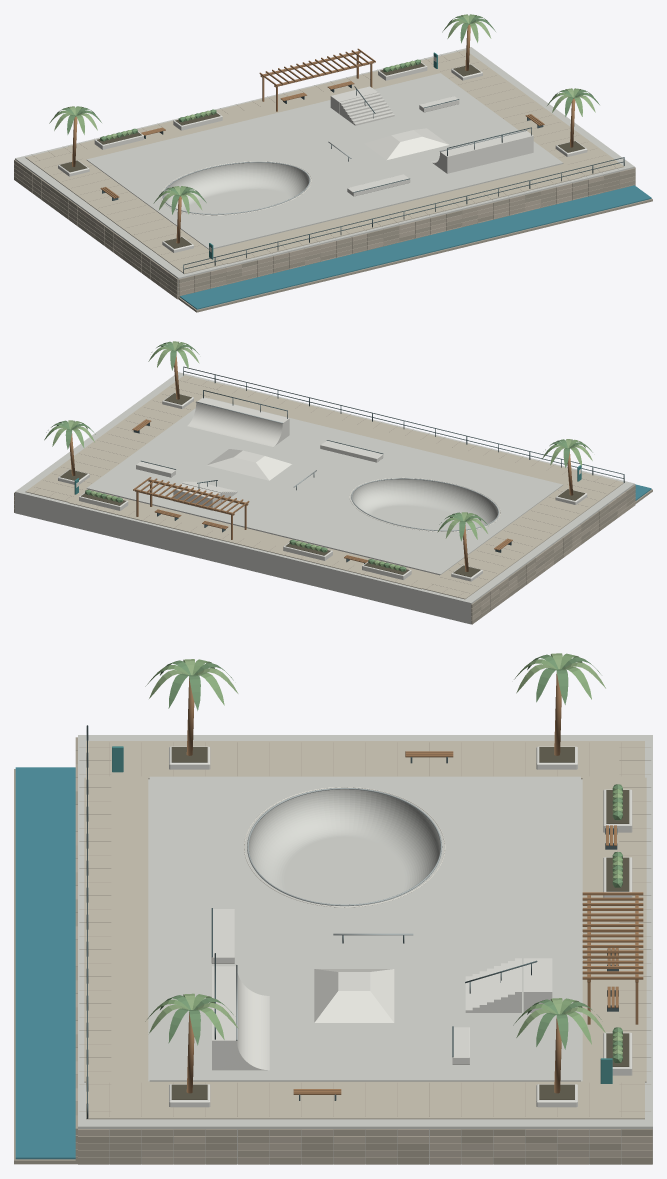
The model's file is waterfront-skatepark.glb.
3 views of the same model, one above another, from view 1: azimuth 30°, elevation 25°; view 2: azimuth 150°, elevation 25°; view 3: azimuth 270°, elevation 25° (orthographic). The views are drawn at different scales.
Visible parts, largest first — view 1: Skatepark Warm architectural concrete, Skatepark Sandstone paving, Skatepark Canal water, Skatepark Precast concrete edges, Skatepark Retaining stone 1, Skatepark Retaining stone 2, Skatepark Retaining stone 0, Skatepark Oiled timber, Skatepark Retaining stone 4, Skatepark Retaining stone 3, Skatepark Dark graphite steel, Skatepark Palm foliage 0 (+4 smaller); view 2: Skatepark Warm architectural concrete, Skatepark Sandstone paving, Skatepark Precast concrete edges, Skatepark Oiled timber, Skatepark Dark graphite steel, Skatepark Retaining stone 2, Skatepark Palm foliage 0, Skatepark Planter soil, Skatepark Palm foliage 1, Skatepark Palm foliage 2, Skatepark Retaining stone 1, Skatepark Retaining stone 0 (+3 smaller); view 3: Skatepark Warm architectural concrete, Skatepark Sandstone paving, Skatepark Canal water, Skatepark Precast concrete edges, Skatepark Oiled timber, Skatepark Retaining stone 1, Skatepark Retaining stone 2, Skatepark Retaining stone 0, Skatepark Retaining stone 4, Skatepark Retaining stone 3, Skatepark Palm foliage 0, Skatepark Planter soil (+4 smaller).
Boxes of the visible parts, x1,y1,x2,y2 form: Skatepark Warm architectural concrete: [15, 47, 634, 296]; Skatepark Sandstone paving: [25, 50, 624, 274]; Skatepark Canal water: [180, 185, 651, 309]; Skatepark Precast concrete edges: [58, 62, 587, 252]; Skatepark Retaining stone 1: [14, 159, 652, 312]; Skatepark Retaining stone 2: [31, 50, 635, 291]; Skatepark Retaining stone 0: [14, 166, 635, 297]; Skatepark Oiled timber: [72, 24, 575, 243]; Skatepark Retaining stone 4: [14, 167, 635, 299]; Skatepark Retaining stone 3: [14, 164, 587, 295]; Skatepark Dark graphite steel: [102, 84, 624, 273]; Skatepark Palm foliage 0: [55, 15, 599, 214]; Skatepark Warm architectural concrete: [15, 372, 634, 624]; Skatepark Sandstone paving: [25, 375, 623, 599]; Skatepark Precast concrete edges: [58, 392, 587, 581]; Skatepark Oiled timber: [69, 354, 573, 571]; Skatepark Dark graphite steel: [133, 366, 624, 563]; Skatepark Retaining stone 2: [31, 376, 626, 610]; Skatepark Palm foliage 0: [46, 341, 592, 571]; Skatepark Planter soil: [60, 393, 584, 577]; Skatepark Palm foliage 1: [44, 342, 585, 570]; Skatepark Palm foliage 2: [52, 341, 592, 569]; Skatepark Retaining stone 1: [471, 484, 652, 617]; Skatepark Retaining stone 0: [14, 489, 635, 624]; Skatepark Warm architectural concrete: [78, 735, 652, 1164]; Skatepark Sandstone paving: [84, 741, 646, 1119]; Skatepark Canal water: [15, 767, 75, 1159]; Skatepark Precast concrete edges: [169, 746, 632, 1107]; Skatepark Oiled timber: [186, 673, 643, 1094]; Skatepark Retaining stone 1: [14, 737, 588, 1164]; Skatepark Retaining stone 2: [75, 742, 650, 1164]; Skatepark Retaining stone 0: [75, 791, 652, 1164]; Skatepark Retaining stone 4: [75, 778, 652, 1164]; Skatepark Retaining stone 3: [75, 764, 652, 1164]; Skatepark Palm foliage 0: [160, 654, 622, 1063]; Skatepark Planter soil: [171, 747, 629, 1099].
Bounding box in the file's own units: 58.26 × 9.61 × 40.
